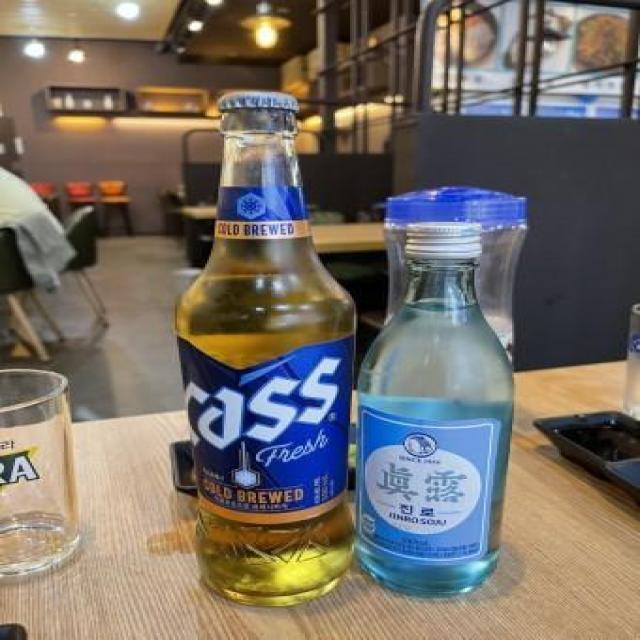beer-bottle: (184, 86, 352, 616)
soju-bottle: (358, 218, 512, 600)
